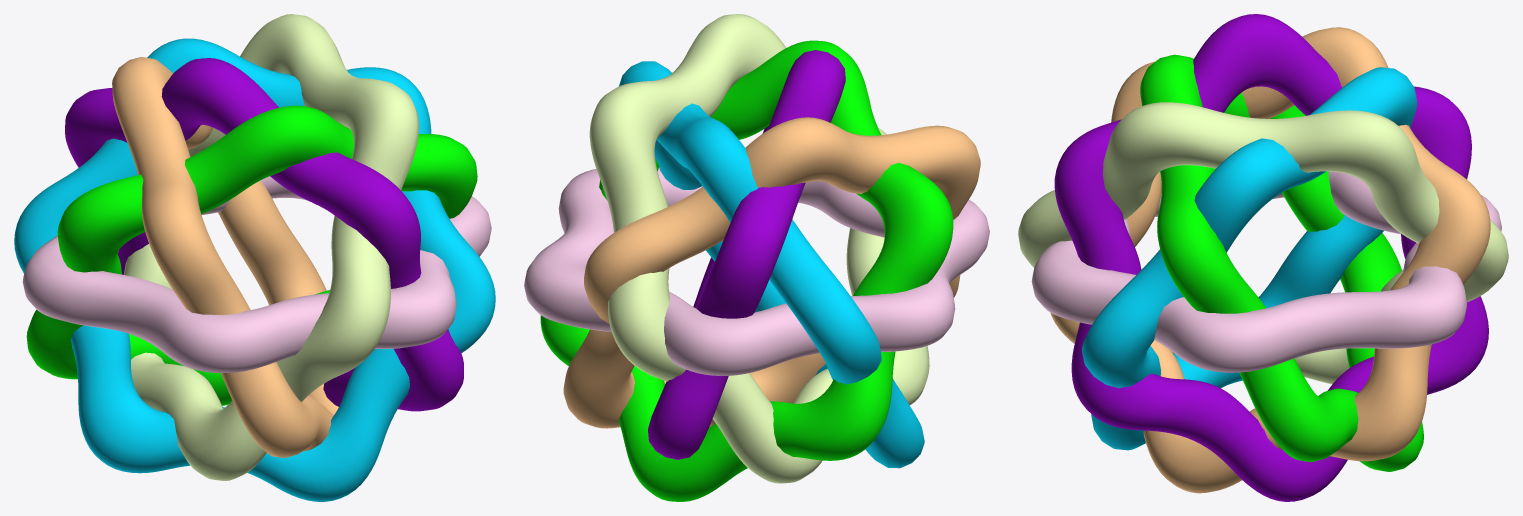
File: orbit-ball.glb
3 renders of one model, left to right at view 1: azimuth 30°, elevation 25°; view 2: azimuth 150°, elevation 25°; view 3: azimuth 270°, elevation 25°, orthographic.
Parts seen in each view (by area): view 1: group4_pCylinder1; view 2: group4_pCylinder1; view 3: group4_pCylinder1.
Part boxes in pixels (x1,y1,x2,y2): group4_pCylinder1: (14, 14, 495, 501); group4_pCylinder1: (524, 14, 989, 501); group4_pCylinder1: (1018, 14, 1508, 501).
Bounding box in the file's own units: 0.0823 × 0.0796 × 0.0833.
